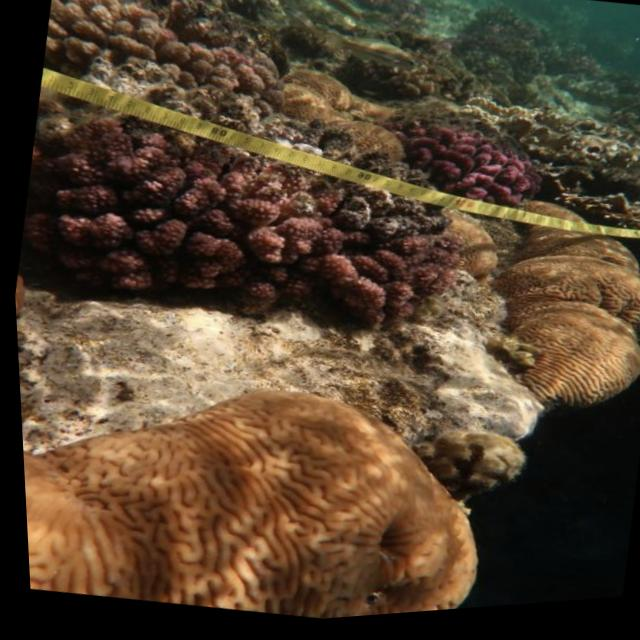Healthy Coral: (14, 321, 505, 640), (4, 92, 327, 356), (484, 198, 640, 430), (293, 214, 484, 358), (259, 53, 421, 178), (379, 109, 550, 226)
